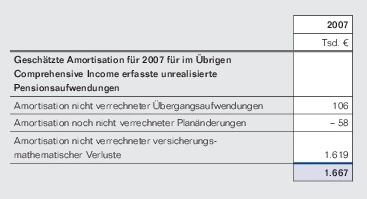table: (0, 0, 367, 199)
